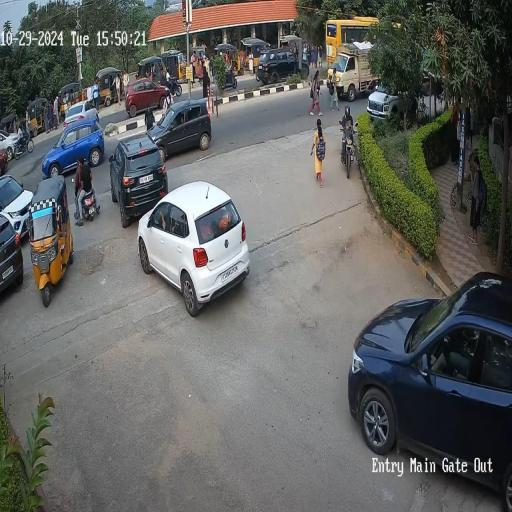helmet: (342, 106, 355, 141)
triple riding: (66, 146, 101, 218)
